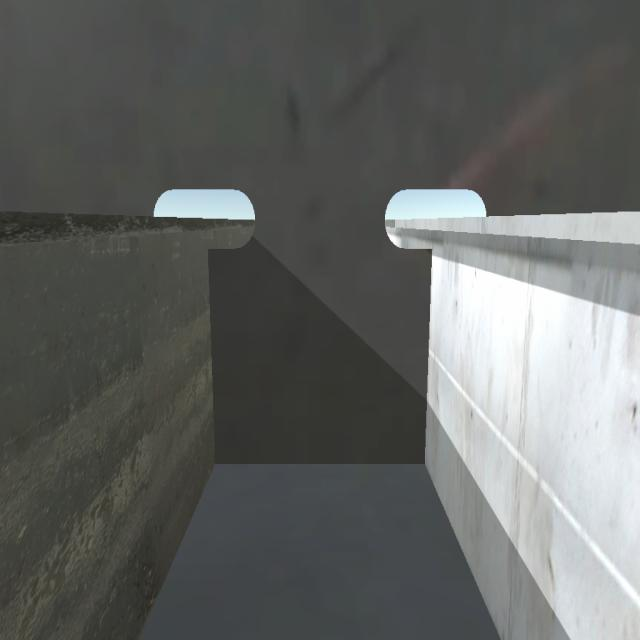fillet_yong_jeop_jang: (212, 449, 432, 476)
longi_yong_jeop_jang: (204, 241, 224, 461), (422, 242, 436, 468)
